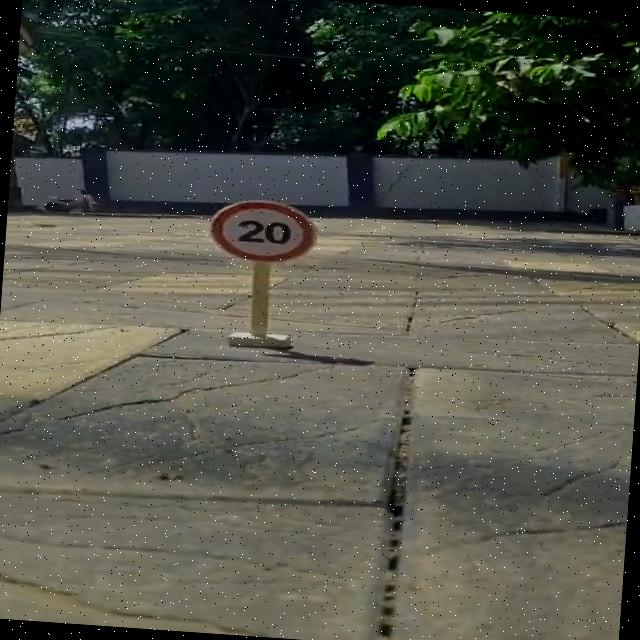Speed20: (196, 187, 328, 272)
